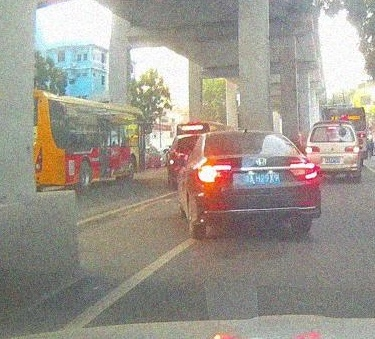L_light: (197, 164, 232, 183)
R_light: (290, 162, 319, 180)
T_light: (242, 133, 259, 136)
day-left: (193, 129, 321, 239)
